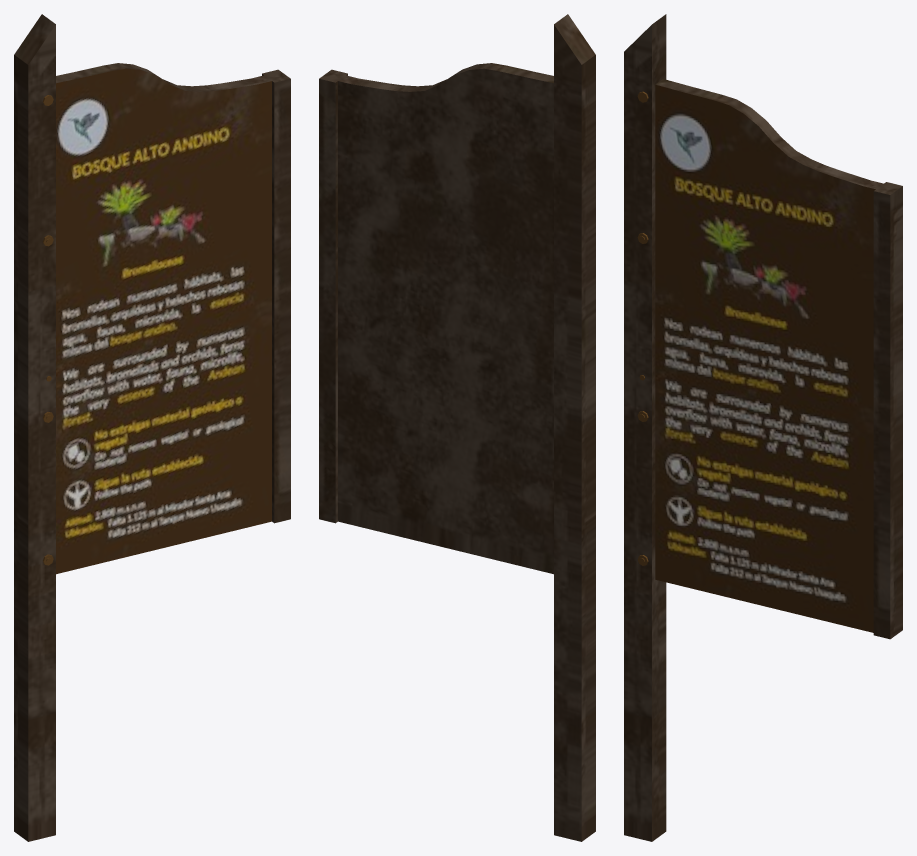
File: letrero-bosque-alto-andino.glb
3 renders of one model, left to right at view 1: azimuth 30°, elevation 25°; view 2: azimuth 150°, elevation 25°; view 3: azimuth 330°, elevation 25°, orthographic.
Size of the model in its own units: 3.76 by 11.06 by 0.3871.
Materials: 4 (4 with a texture image).
